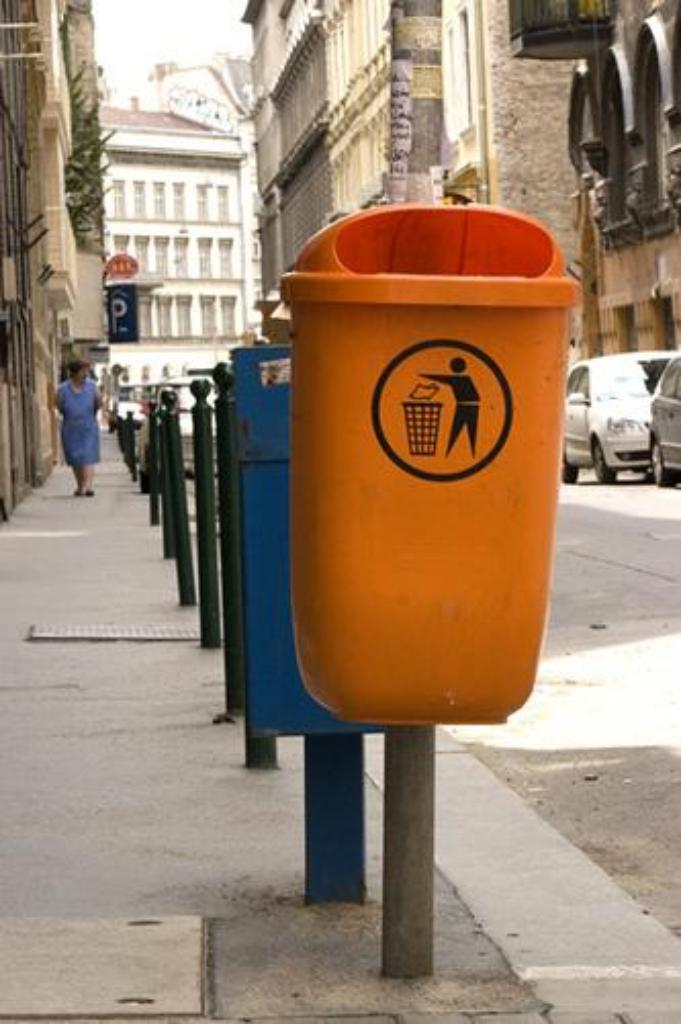dustbin: (260, 206, 606, 742)
